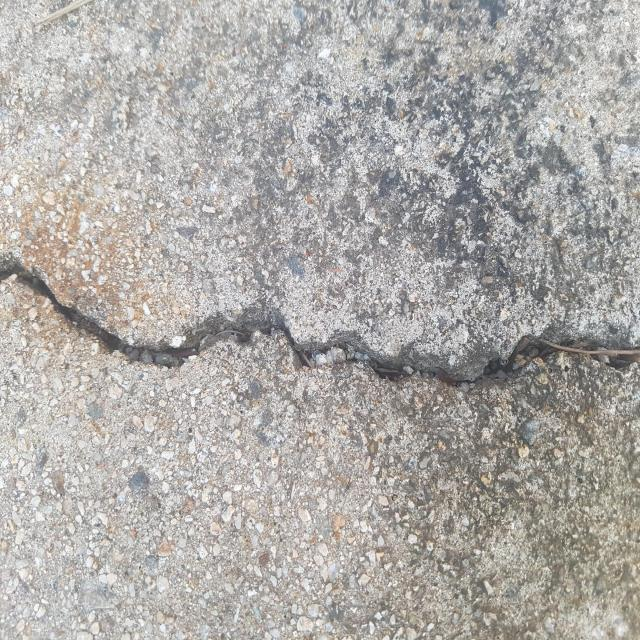SurfaceCrack: (0, 206, 639, 446)
